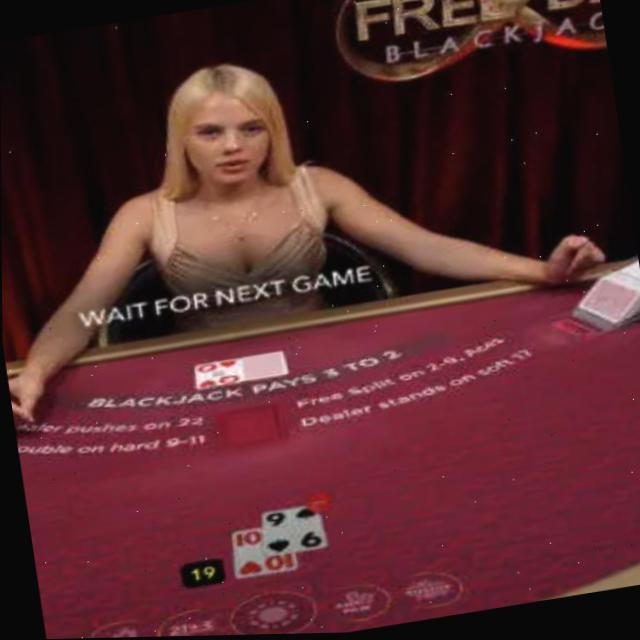Card-10: (232, 528, 295, 581)
Card-9: (261, 505, 327, 557)
Card-Q: (194, 358, 244, 391)
